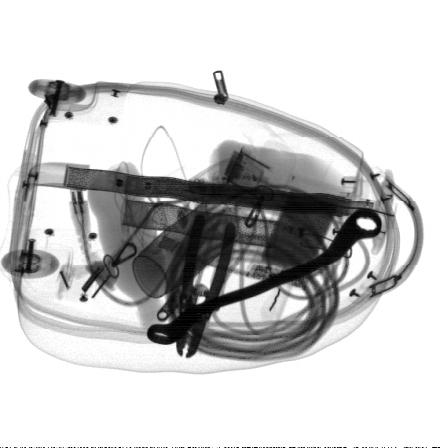Pliers: (175, 211, 237, 359)
Powerbank: (245, 175, 348, 293)
Wrench: (146, 206, 381, 344)
